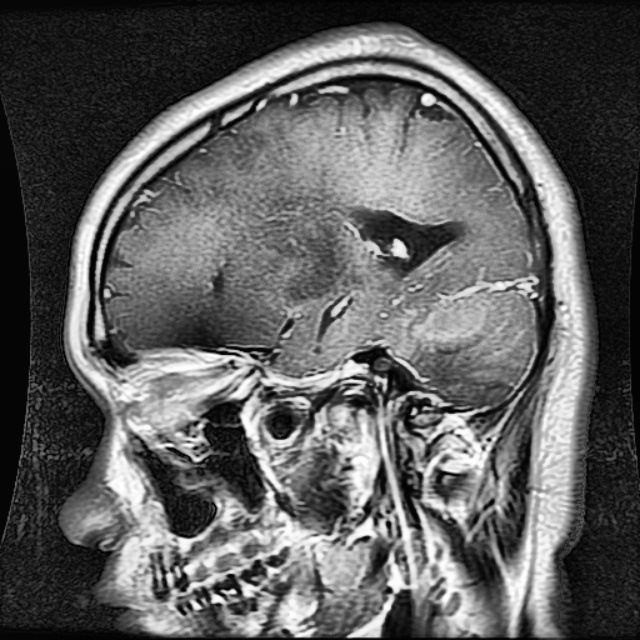Meningioma: (360, 209, 460, 274)
